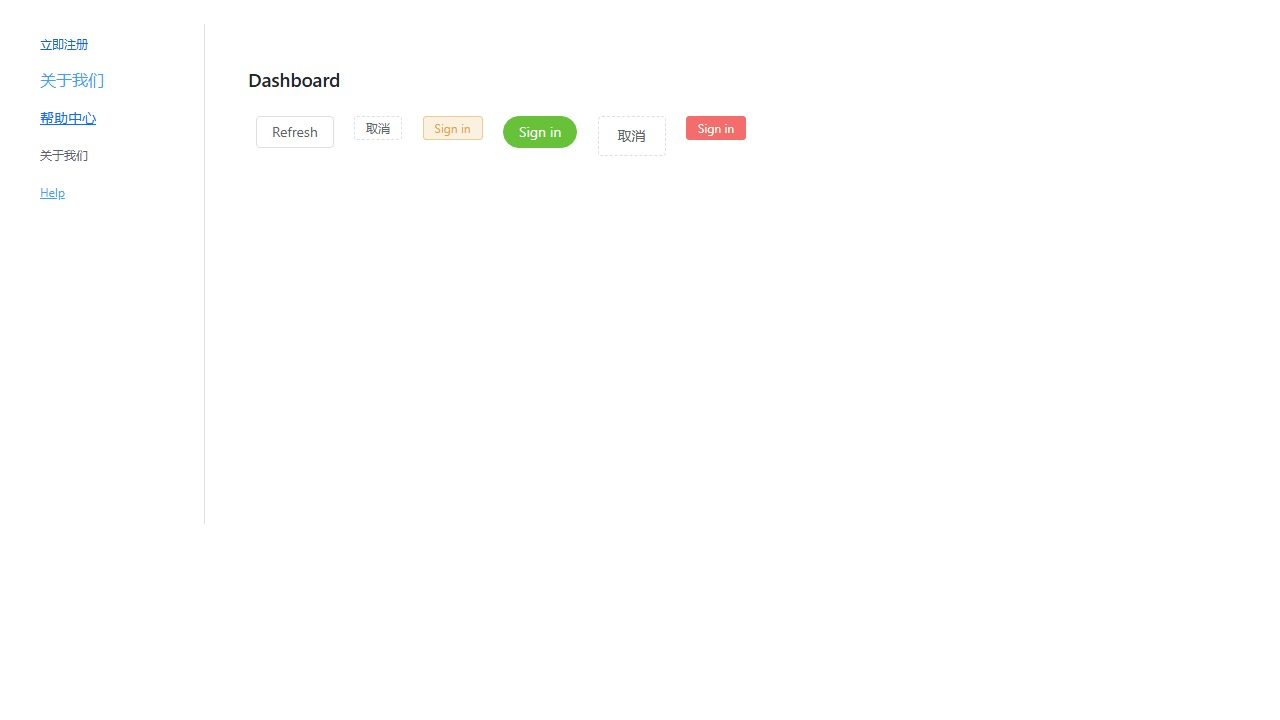button: (598, 116, 666, 156), (256, 116, 334, 148), (503, 116, 577, 148), (422, 116, 483, 140), (686, 116, 746, 140), (354, 116, 402, 140)
link: (40, 69, 104, 90), (40, 108, 96, 127), (40, 36, 88, 52), (40, 147, 88, 163), (40, 184, 65, 200)
